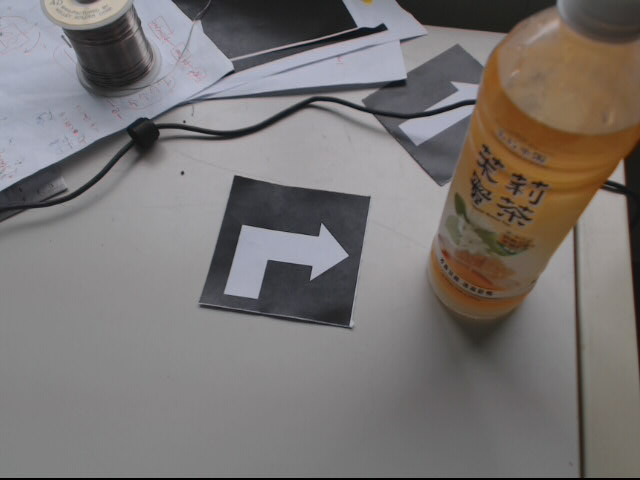right: (199, 174, 369, 327)
